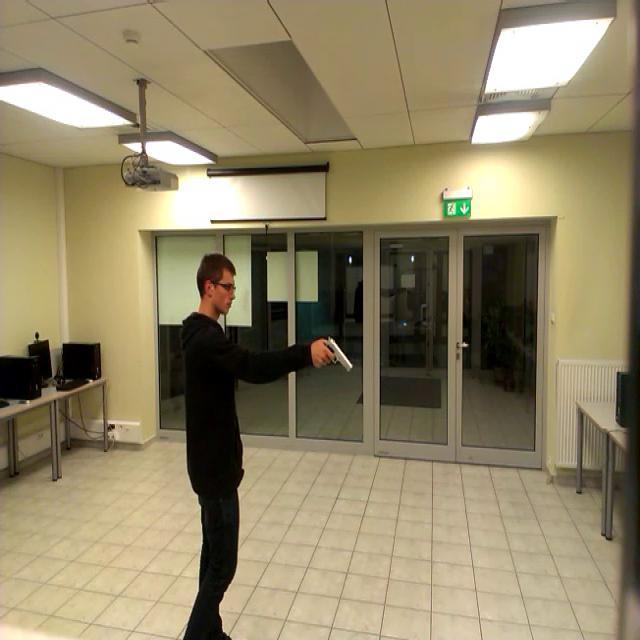Gun: (319, 334, 352, 372)
